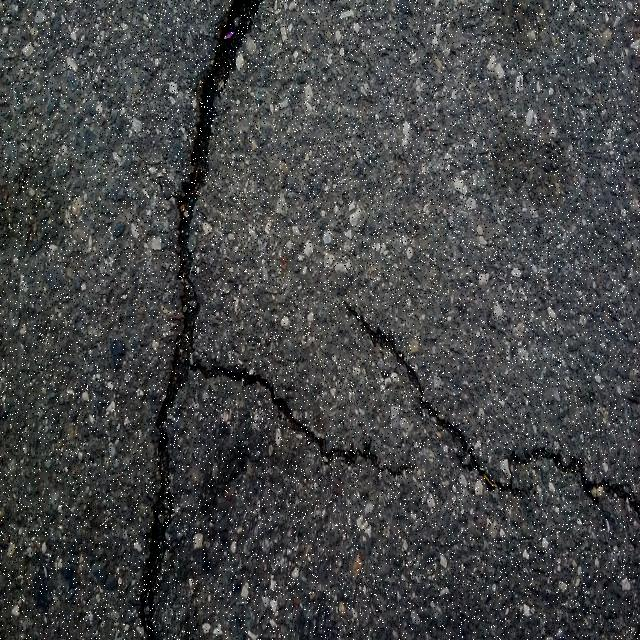Crack: (135, 0, 416, 640), (343, 302, 640, 522)
